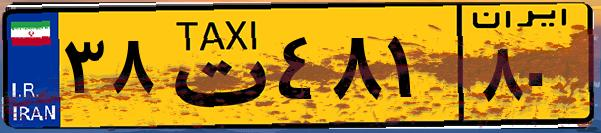0: (525, 38, 570, 115)
1: (385, 28, 445, 110)
3: (57, 26, 110, 100)
4: (270, 28, 330, 110)
8: (330, 28, 385, 110), (475, 38, 525, 113), (110, 28, 158, 98)
ت: (158, 12, 270, 120)
